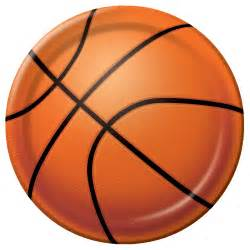basketball: (3, 6, 250, 247)
